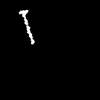half_double_crochet: (19, 10, 33, 43)
